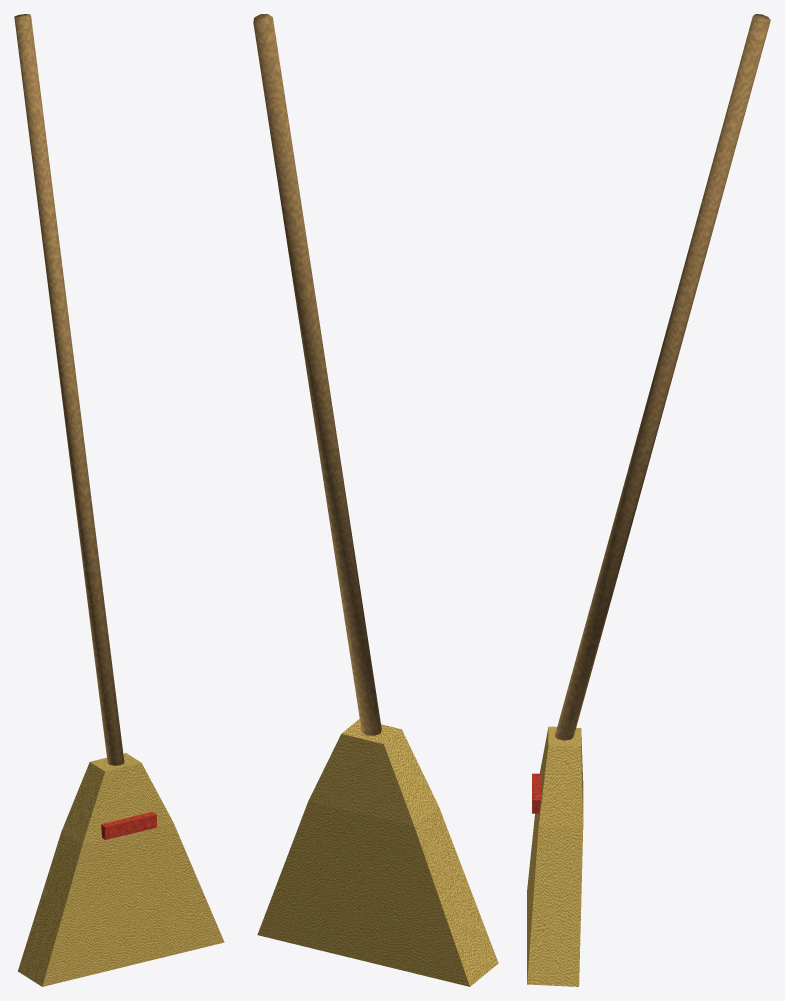
Rendered from escoba.obj.
3 renders of one model, left to right at view 1: azimuth 30°, elevation 25°; view 2: azimuth 150°, elevation 25°; view 3: azimuth 270°, elevation 25°, orthographic. The views are drawn at different scales.
Parts seen in each view (by area): view 1: Paja, Palo, Amarre; view 2: Paja, Palo; view 3: Palo, Paja.
Part boxes in pixels (x1=…): Paja: x1=18, y1=753, x2=224, y2=986; Palo: x1=14, y1=14, x2=124, y2=765; Amarre: x1=101, y1=811, x2=156, y2=839; Paja: x1=257, y1=719, x2=498, y2=986; Palo: x1=253, y1=14, x2=381, y2=735; Palo: x1=555, y1=14, x2=770, y2=740; Paja: x1=527, y1=726, x2=583, y2=986.
Bounding box in the file's own units: 0.3 × 1.37 × 0.3277.
Materials: 3 (3 with a texture image).
